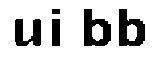b: (79, 4, 113, 48), (117, 2, 147, 50)
i: (46, 5, 66, 48)
u: (10, 15, 44, 51)
